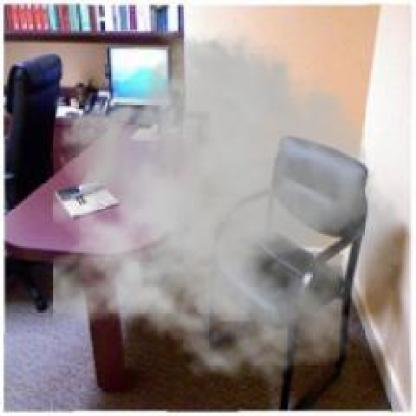Smoke: (52, 23, 406, 390)
